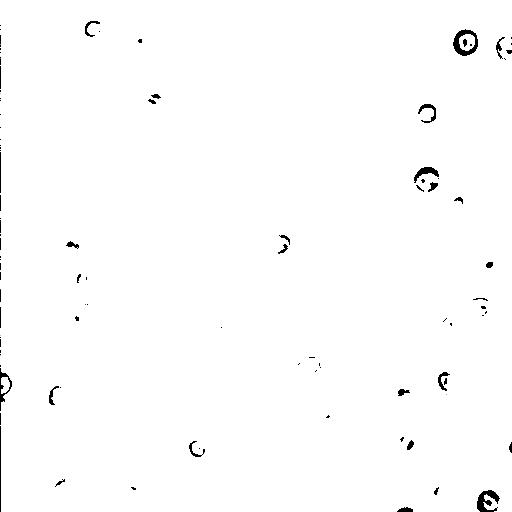micro-algae: (186, 261, 253, 330), (107, 85, 164, 145), (93, 206, 143, 259), (379, 15, 414, 54), (1, 295, 33, 337), (387, 374, 421, 409), (50, 233, 85, 266), (422, 479, 457, 512), (469, 251, 505, 277), (114, 483, 146, 511), (413, 165, 444, 193), (451, 28, 479, 57), (466, 296, 494, 323), (67, 303, 96, 329), (131, 24, 160, 49), (295, 356, 322, 381), (118, 339, 145, 364), (475, 488, 502, 511), (54, 476, 75, 503), (45, 385, 69, 407), (269, 234, 293, 255), (494, 31, 511, 59), (417, 103, 438, 123), (84, 19, 103, 38), (187, 439, 207, 457), (437, 372, 457, 389), (441, 317, 459, 335), (76, 266, 93, 284), (2, 371, 13, 398), (399, 433, 415, 451), (449, 195, 466, 211), (0, 401, 14, 419)
